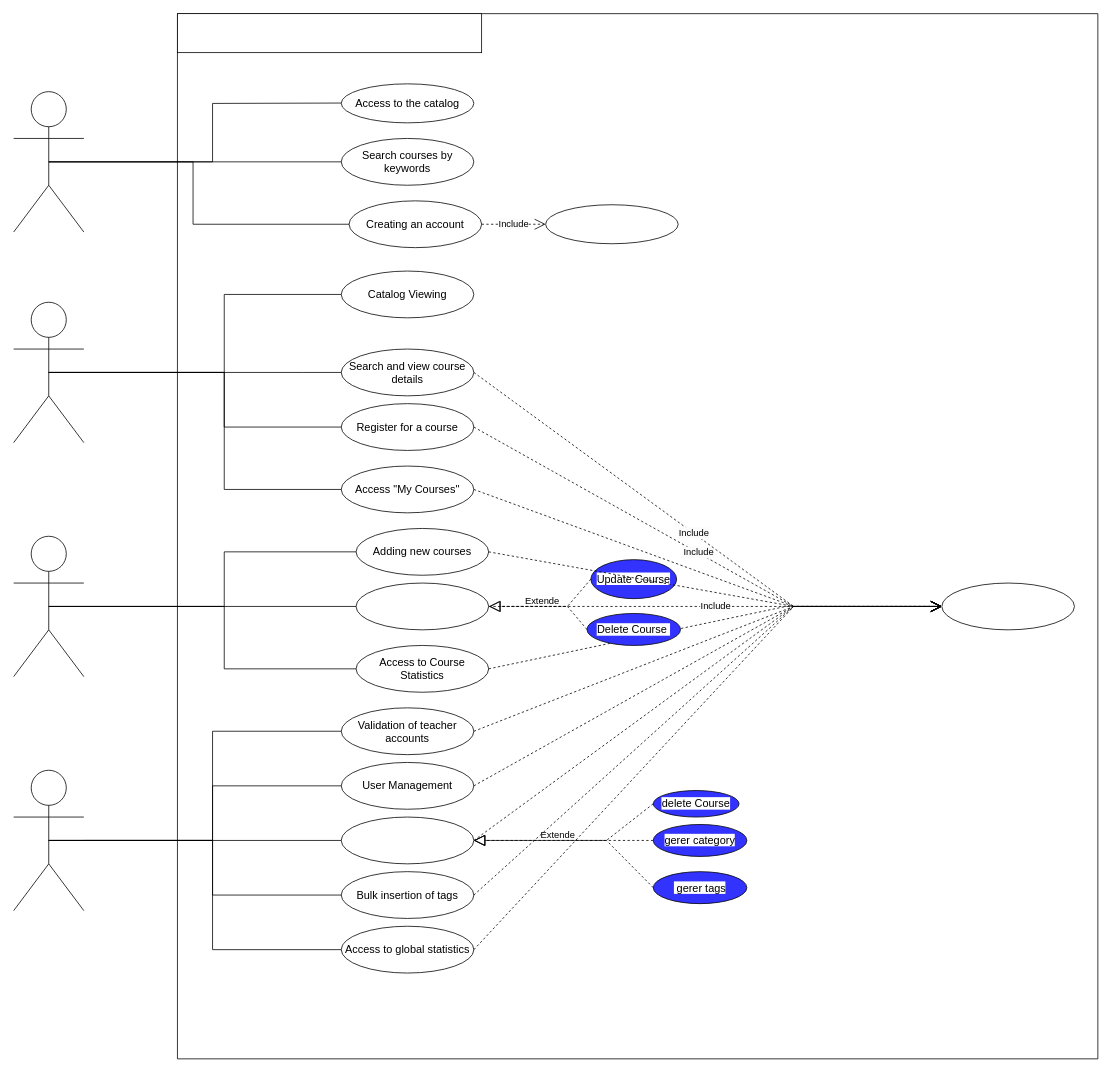
This 1112x1073 diagram has some shape labels left out. Each missing label, with the centre of its shape:
"Admin" goes at [48,840].
"Authentification" goes at [1007,606].
"choice role" goes at [611,224].
"Content management" goes at [407,840].
"Course management" goes at [422,606].
"Student" goes at [48,372].
"System de gestion de platform Youdemy" goes at [329,33].
"Teacher" goes at [48,606].
"Visitor" goes at [48,161].
